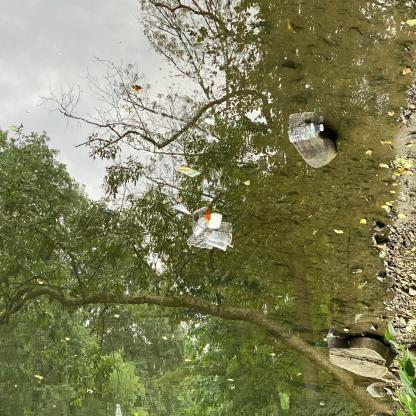Plastic: (283, 112, 326, 148), (187, 229, 233, 252)
Trash: (196, 210, 224, 230)
